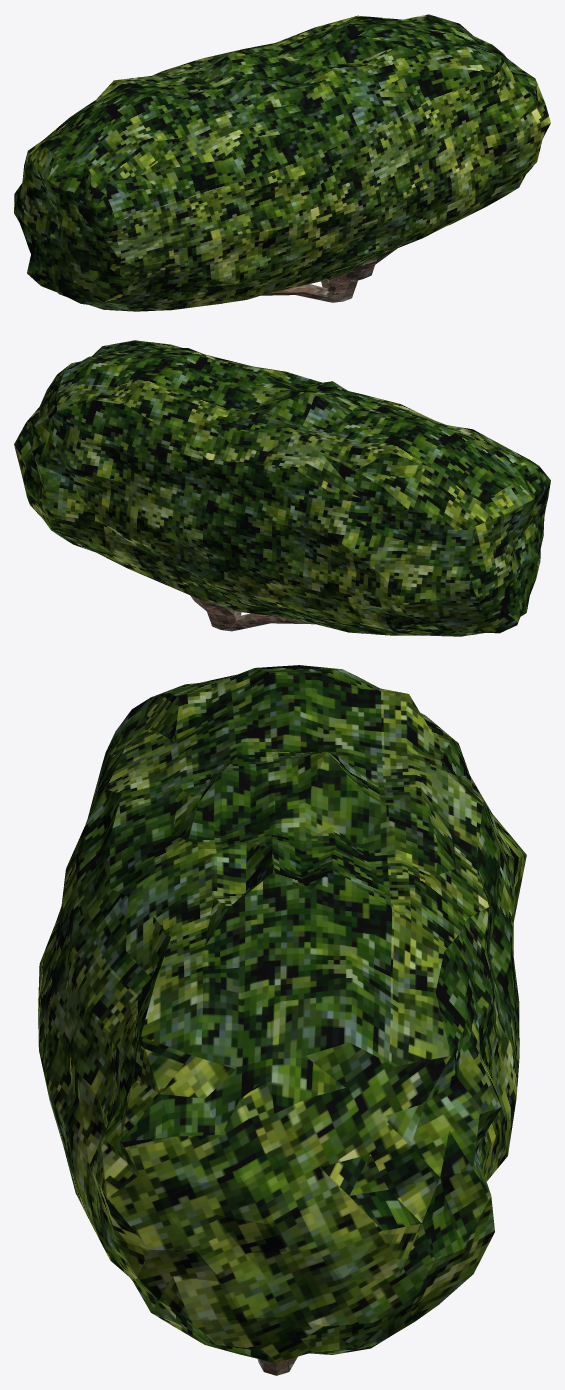
The model's file is bushA.gltf.
3 views of the same model, one above another, from view 1: azimuth 30°, elevation 25°; view 2: azimuth 150°, elevation 25°; view 3: azimuth 270°, elevation 25° (orthographic). The views are drawn at different scales.
Parts seen in each view (by area): view 1: Bush-col, Cylinder.003, Cylinder.001; view 2: Bush-col, Cylinder.001, Cylinder.002; view 3: Bush-col.
Part boxes in pixels (<box>): Bush-col: <box>14,14,550,311</box>; Cylinder.003: <box>327,258,376,301</box>; Cylinder.001: <box>261,284,343,302</box>; Bush-col: <box>14,340,550,636</box>; Cylinder.001: <box>221,613,315,631</box>; Cylinder.002: <box>190,595,235,629</box>; Bush-col: <box>38,665,526,1362</box>.
Bounding box in the file's own units: 5.08 × 2.61 × 2.23.
2 materials, 2 textured.
